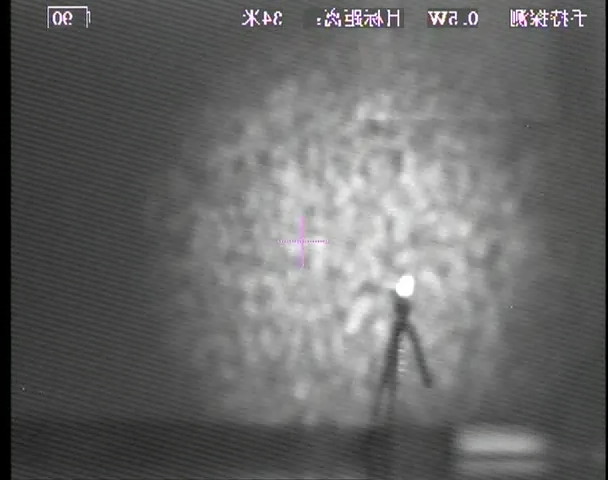my: (394, 273, 416, 299)
